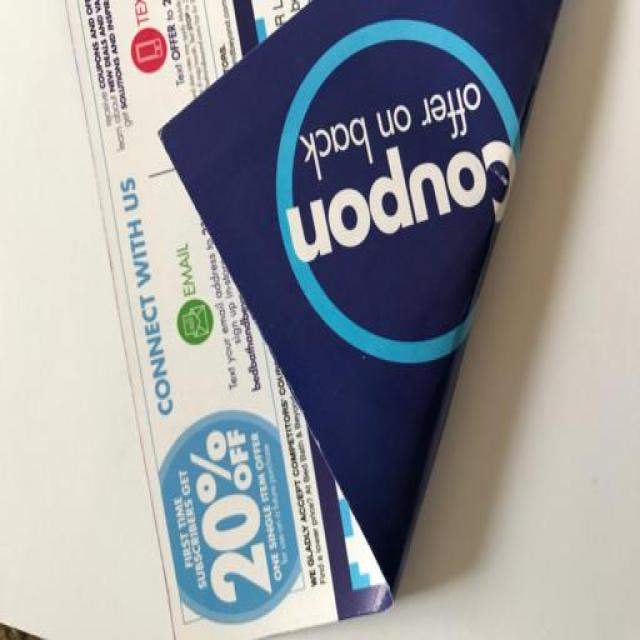paper: (48, 5, 612, 634)
